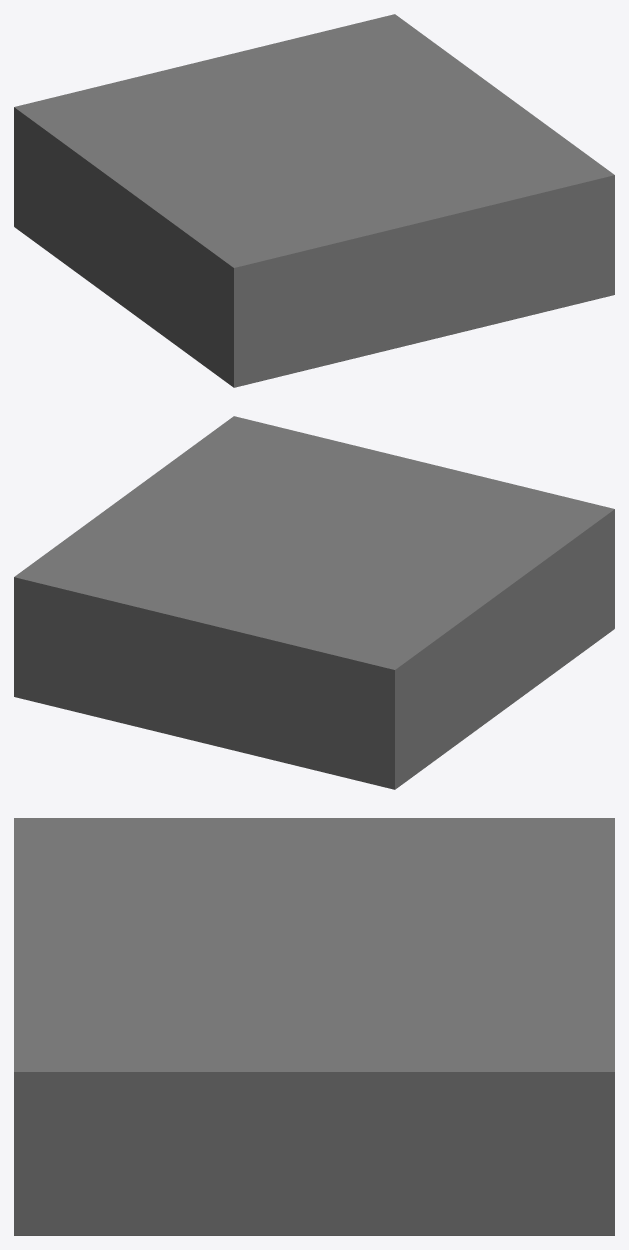
The model's file is lightceiling.glb.
3 renders of one model, top to bottom at view 1: azimuth 30°, elevation 25°; view 2: azimuth 150°, elevation 25°; view 3: azimuth 270°, elevation 25°, orthographic. The views are drawn at different scales.
Parts seen in each view (by area): view 1: Cube; view 2: Cube; view 3: Cube, Plane.
Part boxes in pixels (<box>): Cube: <box>14,14,614,387</box>; Cube: <box>14,416,614,789</box>; Cube: <box>14,818,614,1235</box>; Plane: <box>14,1235,614,1235</box>.
Size of the model in its own units: 2 by 0.601 by 2.
3 materials, 1 textured.
